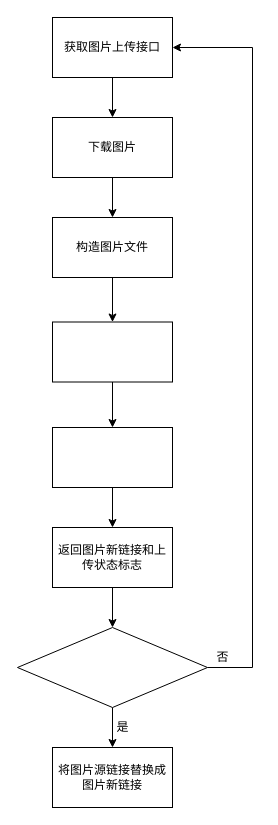
Some shapes in this 278 by 825 pixel diagram are drawn without their labels. The box of each missing label's shape, as (x1, y1, x2, y2) in pixels:
上传状态标志是否为success?: (16, 626, 208, 708)
图片上传: (52, 426, 172, 488)
图片文件编码: (52, 321, 172, 382)
